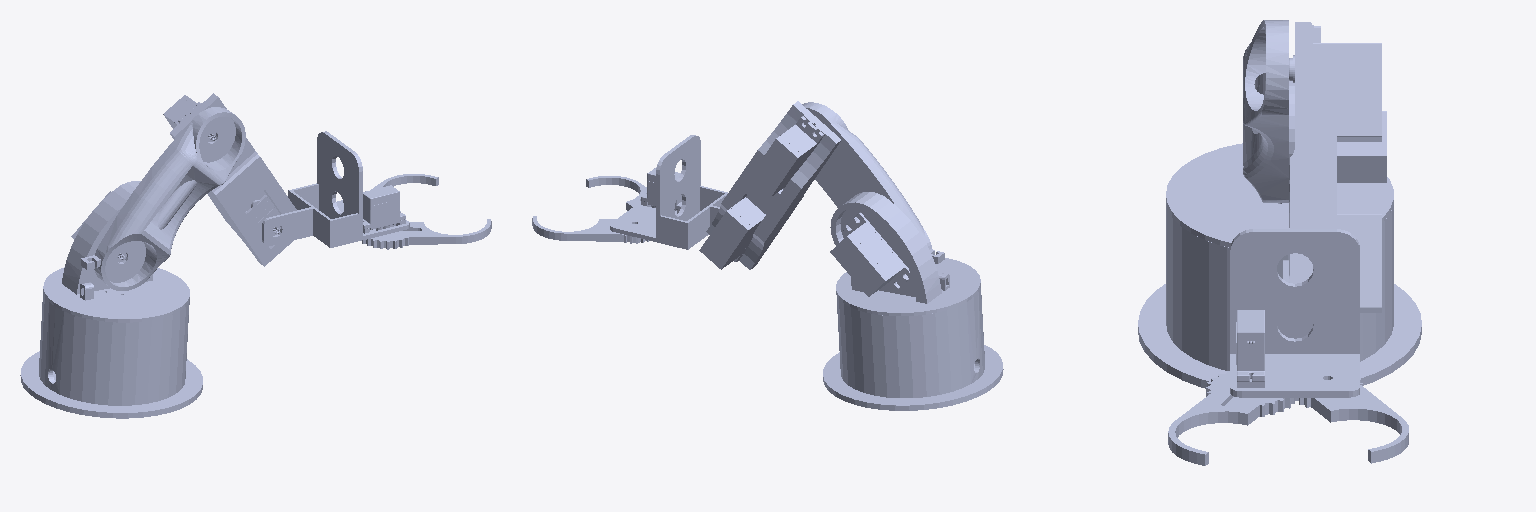
URDF robot description (Assem1):
<?xml version="1.0" encoding="utf-8"?>
<!-- This URDF was automatically created by SolidWorks to URDF Exporter! Originally created by [author] ([email redacted]) 
     Commit Version: 1.6.0-4-g7f85cfe  Build Version: 1.6.7995.38578
     For more information, please see http://wiki.ros.org/sw_urdf_exporter -->
<robot
  name="Assem1">
  <link
    name="base_link">
    <visual>
      <origin
        xyz="0 0 0"
        rpy="0 0 0" />
      <geometry>
        <mesh
          filename="package://robot_description/meshes/base_link.STL" />
      </geometry>
      <material
        name="">
        <color
          rgba="0.79216 0.81961 0.93333 1" />
      </material>
    </visual>
    <collision>
      <origin
        xyz="0 0 0"
        rpy="0 0 0" />
      <geometry>
        <mesh
          filename="package://robot_description/meshes/base_link.STL" />
      </geometry>
    </collision>
  </link>
    <link name="base_inertia">
    <inertial>
      <origin
        xyz="0.0049116 0.00019928 0.035673"
        rpy="0 0 0" />
      <mass
        value="0.11758" />
      <inertia
        ixx="0.00015682"
        ixy="-1.537E-06"
        ixz="3.5348E-06"
        iyy="0.00017869"
        iyz="-1.5402E-08"
        izz="0.00024462" />
    </inertial>
  </link>
  <!-- Fixed joint to add dummy inertia link -->
  <joint name="base_to_base_inertia" type="fixed">
    <parent link="base_link" />
    <child link="base_inertia" />
    <origin rpy="0 0 0" xyz="0 0 0" />
  </joint>
  <link
    name="lc_base_link">
    <inertial>
      <origin
        xyz="0.0005292 0.00019928 -0.041102"
        rpy="0 0 0" />
      <mass
        value="0" />
      <inertia
        ixx="0"
        ixy="0"
        ixz="0"
        iyy="0"
        iyz="0"
        izz="0" />
    </inertial>
    <visual>
      <origin
        xyz="0 0 0"
        rpy="0 0 0" />
      <geometry>
        <mesh
          filename="package://robot_description/meshes/lc_base_link.STL" />
      </geometry>
      <material
        name="">
        <color
          rgba="0.79216 0.81961 0.93333 1" />
      </material>
    </visual>
    <collision>
      <origin
        xyz="0 0 0"
        rpy="0 0 0" />
      <geometry>
        <mesh
          filename="package://robot_description/meshes/lc_base_link.STL" />
      </geometry>
    </collision>
  </link>
  <joint
    name="lc_base_joint"
    type="fixed">
    <origin
      xyz="0.0043824 0 0.076775"
      rpy="0 0 0" />
    <parent
      link="base_link" />
    <child
      link="lc_base_link" />
    <axis
      xyz="0 0 0" />
  </joint>
  <link
    name="servo1_link">
    <inertial>
      <origin
        xyz="0.0090001 0.014697 0.022411"
        rpy="0 0 0" />
      <mass
        value="0.088403" />
      <inertia
        ixx="4.652E-05"
        ixy="-1.8761E-06"
        ixz="-1.0429E-05"
        iyy="6.1759E-05"
        iyz="-4.962E-06"
        izz="5.0271E-05" />
    </inertial>
    <visual>
      <origin
        xyz="0 0 0"
        rpy="0 0 0" />
      <geometry>
        <mesh
          filename="package://robot_description/meshes/servo1_link.STL" />
      </geometry>
      <material
        name="">
        <color
          rgba="0.79216 0.81961 0.93333 1" />
      </material>
    </visual>
    <collision>
      <origin
        xyz="0 0 0"
        rpy="0 0 0" />
      <geometry>
        <mesh
          filename="package://robot_description/meshes/servo1_link.STL" />
      </geometry>
    </collision>
  </link>
  <joint
    name="servo1_joint"
    type="revolute">
    <origin
      xyz="0 0 0"
      rpy="0 0 0" />
    <parent
      link="lc_base_link" />
    <child
      link="servo1_link" />
    <axis
      xyz="-0.056988 0 -0.99837" />
    <limit
      lower="-3.14"
      upper="3.14"
      effort="0.98067"
      velocity="1.6" />
  </joint>
  <link
    name="servo2_link">
    <inertial>
      <origin
        xyz="0.0317 0.038148 0.0072243"
        rpy="0 0 0" />
      <mass
        value="0.054547" />
      <inertia
        ixx="3.3395E-05"
        ixy="-2.1758E-05"
        ixz="2.3866E-07"
        iyy="3.178E-05"
        iyz="-1.6941E-07"
        izz="6.2215E-05" />
    </inertial>
    <visual>
      <origin
        xyz="0 0 0"
        rpy="0 0 0" />
      <geometry>
        <mesh
          filename="package://robot_description/meshes/servo2_link.STL" />
      </geometry>
      <material
        name="">
        <color
          rgba="0.79216 0.81961 0.93333 1" />
      </material>
    </visual>
    <collision>
      <origin
        xyz="0 0 0"
        rpy="0 0 0" />
      <geometry>
        <mesh
          filename="package://robot_description/meshes/servo2_link.STL" />
      </geometry>
    </collision>
  </link>
  <joint
    name="servo2_joint"
    type="revolute">
    <origin
      xyz="0.0054931 0.004 0.021697"
      rpy="1.5708 0 0" />
    <parent
      link="servo1_link" />
    <child
      link="servo2_link" />
    <axis
      xyz="0 0 -1" />
    <limit
      lower="-3.14"
      upper="3.14"
      effort="0.98067"
      velocity="1.6" />
  </joint>
  <link
    name="servo3_link">
    <inertial>
      <origin
        xyz="0.025062 -0.040723 -0.015889"
        rpy="0 0 0" />
      <mass
        value="0.10955" />
      <inertia
        ixx="5.2087E-05"
        ixy="2.0409E-05"
        ixz="-3.8714E-07"
        iyy="3.1485E-05"
        iyz="6.2907E-07"
        izz="6.8049E-05" />
    </inertial>
    <visual>
      <origin
        xyz="0 0 0"
        rpy="0 0 0" />
      <geometry>
        <mesh
          filename="package://robot_description/meshes/servo3_link.STL" />
      </geometry>
      <material
        name="">
        <color
          rgba="0.79216 0.81961 0.93333 1" />
      </material>
    </visual>
    <collision>
      <origin
        xyz="0 0 0"
        rpy="0 0 0" />
      <geometry>
        <mesh
          filename="package://robot_description/meshes/servo3_link.STL" />
      </geometry>
    </collision>
  </link>
  <joint
    name="servo3_joint"
    type="revolute">
    <origin
      xyz="0.069118 0.072269 0"
      rpy="0 0 0" />
    <parent
      link="servo2_link" />
    <child
      link="servo3_link" />
    <axis
      xyz="0 0 -1" />
    <limit
      lower="-3.14"
      upper="3.14"
      effort="0.98067"
      velocity="1.6" />
  </joint>
  <link
    name="servo4_link">
    <inertial>
      <origin
        xyz="0.056342 0.0058296 0.0025327"
        rpy="0 0 0" />
      <mass
        value="0.027699" />
      <inertia
        ixx="1.248E-05"
        ixy="8.8793E-07"
        ixz="4.4735E-07"
        iyy="1.3947E-05"
        iyz="-1.0992E-07"
        izz="1.4673E-05" />
    </inertial>
    <visual>
      <origin
        xyz="0 0 0"
        rpy="0 0 0" />
      <geometry>
        <mesh
          filename="package://robot_description/meshes/servo4_link.STL" />
      </geometry>
      <material
        name="">
        <color
          rgba="0.79216 0.81961 0.93333 1" />
      </material>
    </visual>
    <collision>
      <origin
        xyz="0 0 0"
        rpy="0 0 0" />
      <geometry>
        <mesh
          filename="package://robot_description/meshes/servo4_link.STL" />
      </geometry>
    </collision>
  </link>
  <joint
    name="servo4_joint"
    type="revolute">
    <origin
      xyz="0.049293 -0.080097 0"
      rpy="0 0 0" />
    <parent
      link="servo3_link" />
    <child
      link="servo4_link" />
    <axis
      xyz="0 0 1" />
    <limit
      lower="-3.14"
      upper="3.14"
      effort="0.98067"
      velocity="1.6" />
  </joint>
  <link
    name="servo5_link">
    <inertial>
      <origin
        xyz="0.006688 0.0058716 -0.011122"
        rpy="0 0 0" />
      <mass
        value="0.0077585" />
      <inertia
        ixx="1.3753E-06"
        ixy="-1.1771E-06"
        ixz="1.4655E-09"
        iyy="2.5651E-06"
        iyz="1.5408E-09"
        izz="3.9017E-06" />
    </inertial>
    <visual>
      <origin
        xyz="0 0 0"
        rpy="0 0 0" />
      <geometry>
        <mesh
          filename="package://robot_description/meshes/servo5_link.STL" />
      </geometry>
      <material
        name="">
        <color
          rgba="0.79216 0.81961 0.93333 1" />
      </material>
    </visual>
    <collision>
      <origin
        xyz="0 0 0"
        rpy="0 0 0" />
      <geometry>
        <mesh
          filename="package://robot_description/meshes/servo5_link.STL" />
      </geometry>
    </collision>
  </link>
  <joint
    name="servo5_joint"
    type="revolute">
    <origin
      xyz="0.079403 -0.025473 0.0165"
      rpy="1.5708 0 0" />
    <parent
      link="servo4_link" />
    <child
      link="servo5_link" />
    <axis
      xyz="0 0 1" />
    <limit
      lower="-3.14"
      upper="3.14"
      effort="0.21575"
      velocity="0.1" />
  </joint>
  <link
    name="end2_link">
    <inertial>
      <origin
        xyz="-0.21656 -0.040334 -0.01412"
        rpy="0 0 0" />
      <mass
        value="0" />
      <inertia
        ixx="0"
        ixy="0"
        ixz="0"
        iyy="0"
        iyz="0"
        izz="0" />
    </inertial>
    <visual>
      <origin
        xyz="0 0 0"
        rpy="0 0 0" />
      <geometry>
        <sphere radius="0" />
      </geometry>
      <material
        name="">
        <color
          rgba="1 1 1 1" />
      </material>
    </visual>
    <collision>
      <origin
        xyz="0 0 0"
        rpy="0 0 0" />
      <geometry>
        <sphere radius="0" />
      </geometry>
    </collision>
  </link>
  <joint
    name="end2_joint"
    type="fixed">
    <origin
      xyz="0.066229 0.019559 -0.013973"
      rpy="0 0 0" />
    <parent
      link="servo5_link" />
    <child
      link="end2_link" />
    <axis
      xyz="0 0 0" />
  </joint>
  <link
    name="servo6_link">
    <inertial>
      <origin
        xyz="0.013306 -0.0079039 -0.012559"
        rpy="0 0 0" />
      <mass
        value="0.0065727" />
      <inertia
        ixx="9.684E-07"
        ixy="1.0052E-06"
        ixz="1.886E-22"
        iyy="2.0562E-06"
        iyz="-3.3448E-22"
        izz="2.9915E-06" />
    </inertial>
    <visual>
      <origin
        xyz="0 0 0"
        rpy="0 0 0" />
      <geometry>
        <mesh
          filename="package://robot_description/meshes/servo6_link.STL" />
      </geometry>
      <material
        name="">
        <color
          rgba="0.79216 0.81961 0.93333 1" />
      </material>
    </visual>
    <collision>
      <origin
        xyz="0 0 0"
        rpy="0 0 0" />
      <geometry>
        <mesh
          filename="package://robot_description/meshes/servo6_link.STL" />
      </geometry>
    </collision>
  </link>
  <joint
    name="servo6_joint"
    type="revolute">
    <origin
      xyz="0.076526 -0.025309 -0.0165"
      rpy="1.5708 0 0" />
    <parent
      link="servo4_link" />
    <child
      link="servo6_link" />
    <axis
      xyz="0 0 1" />
    <limit
      lower="-3.14"
      upper="3.14"
      effort="0.21575"
      velocity="0.1" />
  </joint>
  <link
    name="end1_link">
    <inertial>
      <origin
        xyz="-0.21599 0.030977 -0.031841"
        rpy="0 0 0" />
      <mass
        value="0" />
      <inertia
        ixx="0"
        ixy="0"
        ixz="0"
        iyy="0"
        iyz="0"
        izz="0" />
    </inertial>
    <visual>
      <origin
        xyz="0 0 0"
        rpy="0 0 0" />
      <geometry>
        <sphere radius="0" />
      </geometry>
      <material
        name="">
        <color
          rgba="1 1 1 1" />
      </material>
    </visual>
    <collision>
      <origin
        xyz="0 0 0"
        rpy="0 0 0" />
      <geometry>
        <sphere radius="0" />
      </geometry>
    </collision>
  </link>
  <joint
    name="end1_joint"
    type="fixed">
    <origin
      xyz="0.06854 -0.018752 0.0039123"
      rpy="0 0 0" />
    <parent
      link="servo6_link" />
    <child
      link="end1_link" />
    <axis
      xyz="0 0 0" />
  </joint>
</robot>

--- Facts derived from the render (not from the file) ---
The picture shows the robot from 3 angles, left to right: view 1: azimuth 30°, elevation 25°; view 2: azimuth 150°, elevation 25°; view 3: azimuth 270°, elevation 25°; orthographic projection.
Model Assem1 with 11 links and 10 joints (6 revolute, 4 fixed), rooted at base_link, posed all joints at 0.
Visible links, largest first — view 1: base_link, servo2_link, servo4_link, servo1_link, servo3_link, lc_base_link, servo5_link, servo6_link; view 2: base_link, servo1_link, servo3_link, servo4_link, servo2_link, lc_base_link, servo6_link, servo5_link; view 3: servo4_link, servo3_link, servo1_link, lc_base_link, servo2_link, base_link, servo5_link, servo6_link.
Boxes of the visible links, x1=… form: base_link: x1=20, y1=293, x2=202, y2=418; servo2_link: x1=81, y1=107, x2=245, y2=290; servo4_link: x1=262, y1=131, x2=409, y2=247; servo1_link: x1=43, y1=181, x2=189, y2=322; servo3_link: x1=163, y1=93, x2=296, y2=266; lc_base_link: x1=48, y1=299, x2=202, y2=418; servo5_link: x1=362, y1=219, x2=491, y2=249; servo6_link: x1=371, y1=174, x2=438, y2=189; base_link: x1=823, y1=288, x2=1003, y2=410; servo1_link: x1=830, y1=192, x2=980, y2=315; servo3_link: x1=699, y1=101, x2=840, y2=269; servo4_link: x1=610, y1=135, x2=727, y2=249; servo2_link: x1=802, y1=102, x2=944, y2=263; lc_base_link: x1=823, y1=294, x2=979, y2=409; servo6_link: x1=532, y1=216, x2=648, y2=243; servo5_link: x1=586, y1=176, x2=676, y2=213; servo4_link: x1=1230, y1=229, x2=1359, y2=397; servo3_link: x1=1289, y1=22, x2=1381, y2=312; servo1_link: x1=1166, y1=81, x2=1393, y2=247; lc_base_link: x1=1138, y1=203, x2=1421, y2=388; servo2_link: x1=1243, y1=20, x2=1288, y2=202; base_link: x1=1138, y1=210, x2=1421, y2=381; servo5_link: x1=1168, y1=371, x2=1294, y2=465; servo6_link: x1=1295, y1=379, x2=1408, y2=463.
Bounding box of the posed robot: 0.3346 × 0.122 × 0.19 m (x, y, z).
Meshes: 8 distinct files referenced, 8 mesh visuals loaded (8 binary STL).